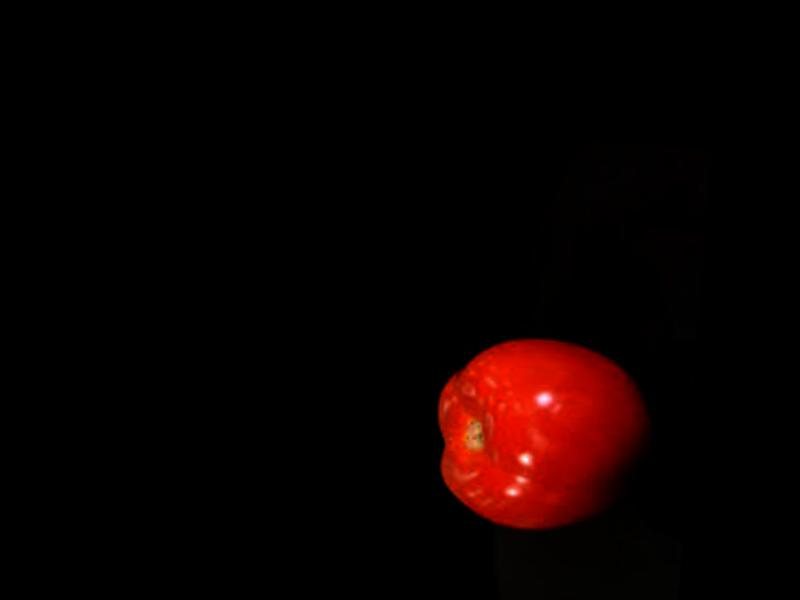Tomato: (425, 328, 659, 539)
